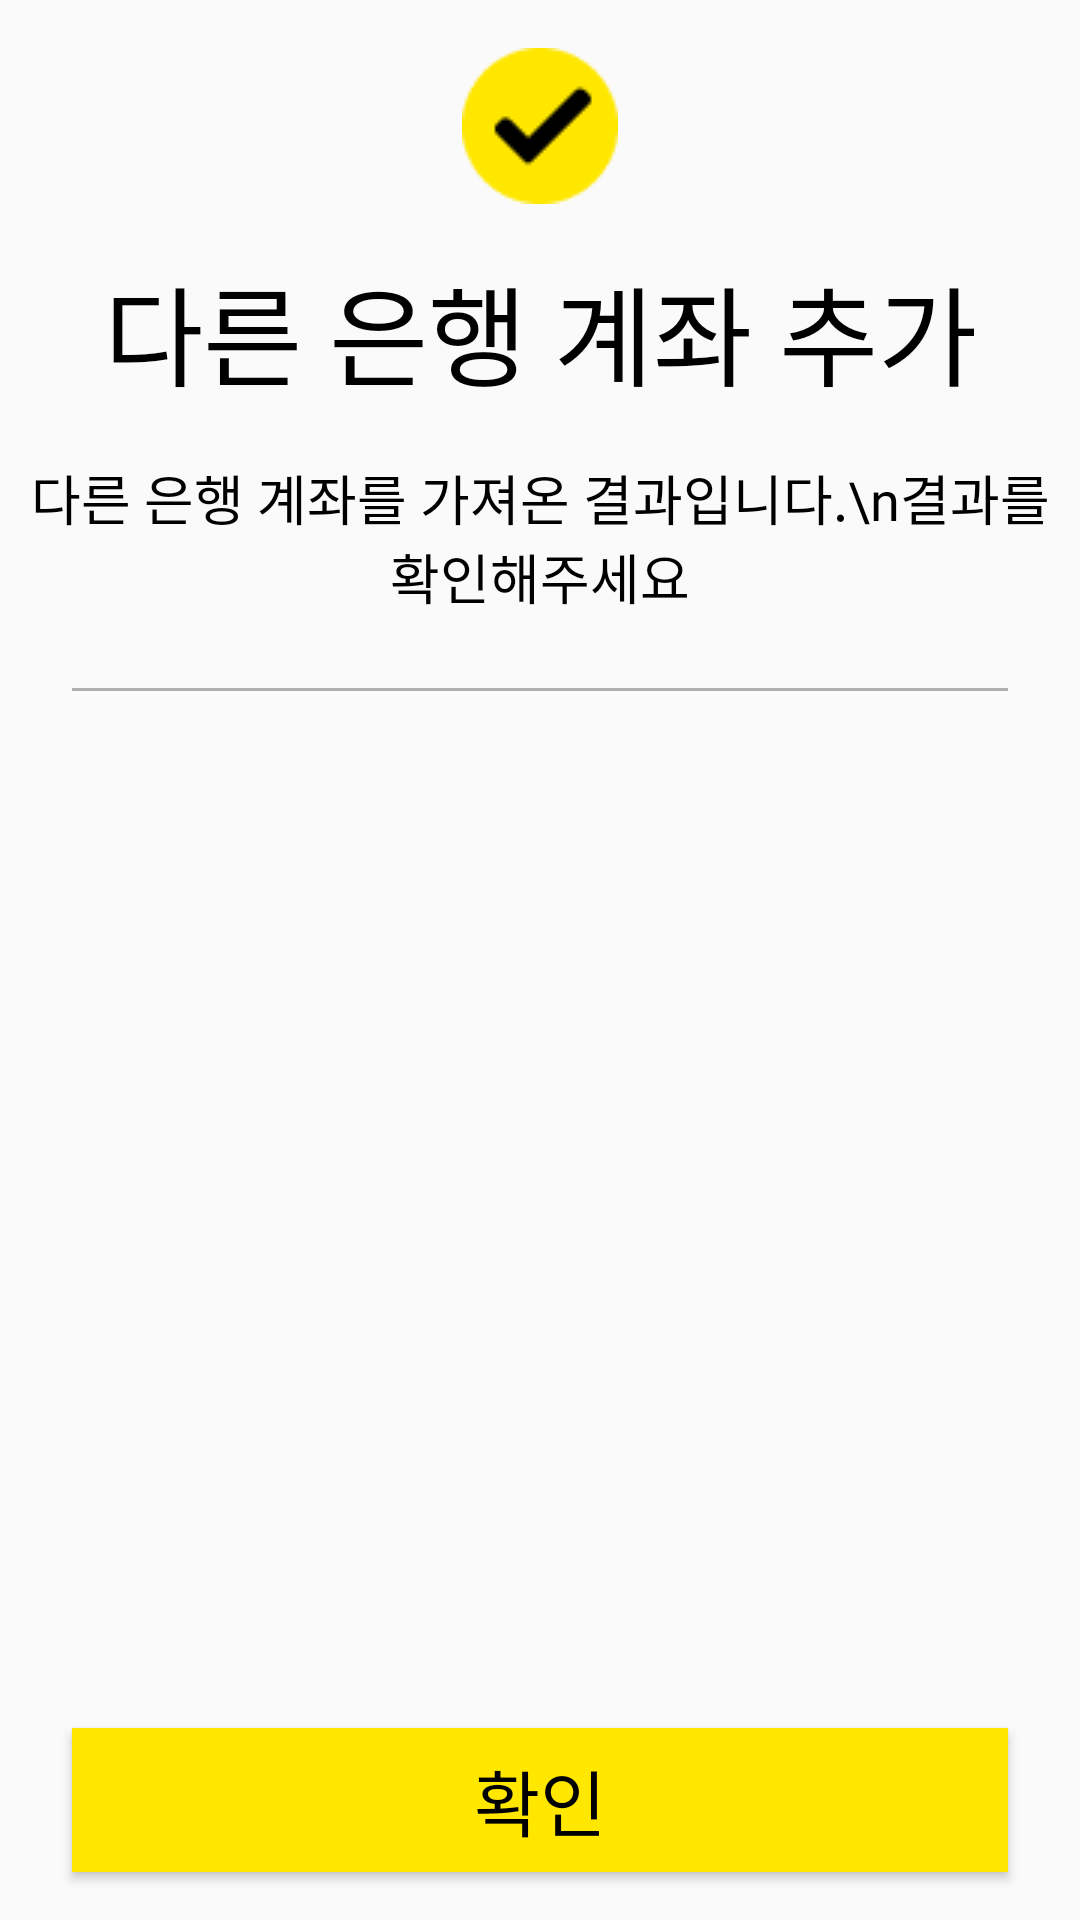

Locate icon controls on the screen. Image size 1080x1920, boxes as region(x1, y1, x2, y2).
makesuccess: region(462, 48, 618, 204)
